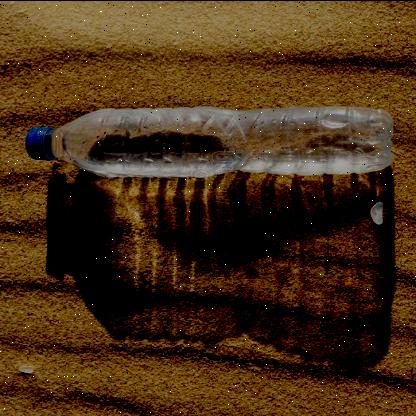Plastic Bottle: (26, 106, 394, 176)
